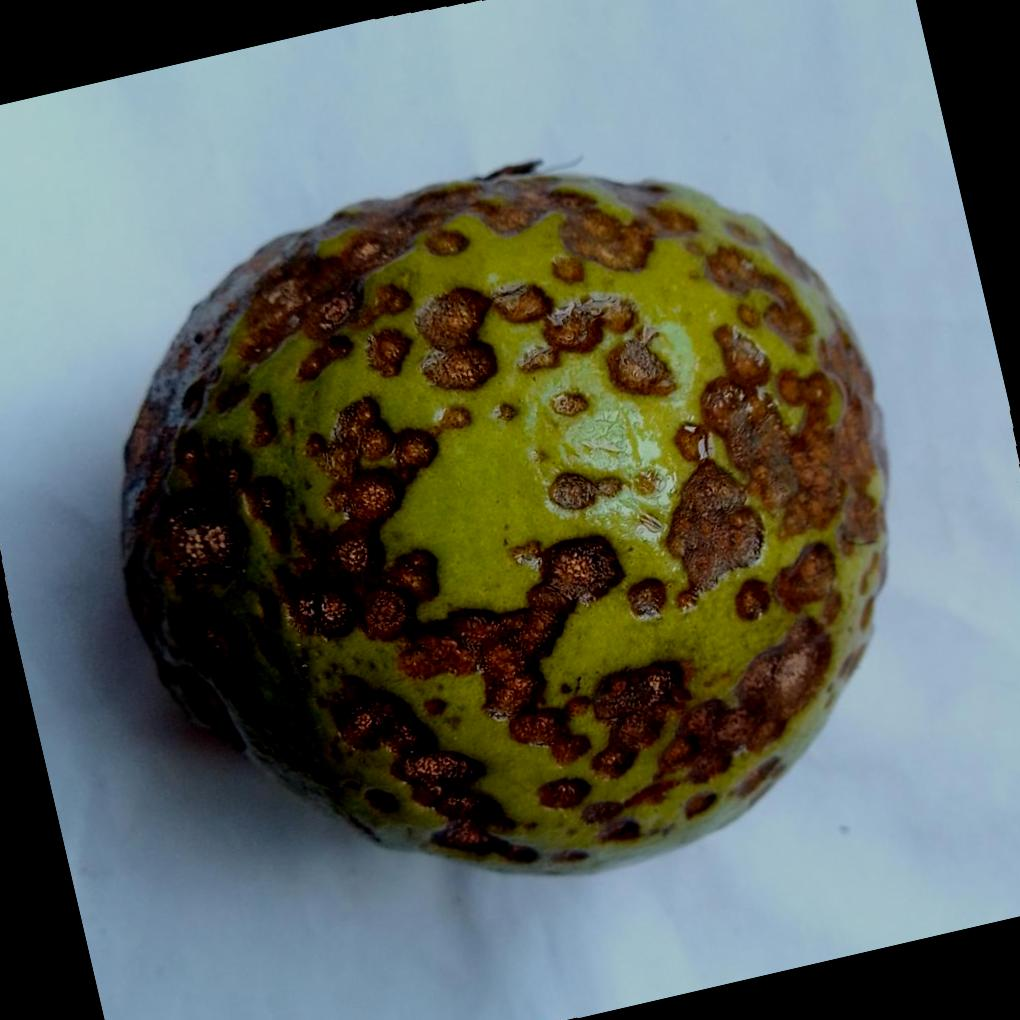FreshOrange: (119, 166, 891, 881)
